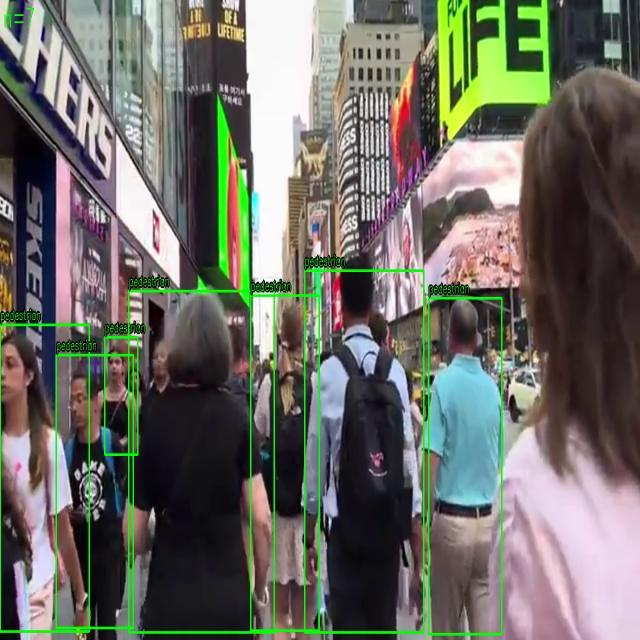with scooter: (128, 291, 274, 633), (304, 270, 424, 633), (0, 324, 90, 632), (428, 298, 502, 634), (250, 295, 320, 631), (56, 354, 134, 628), (104, 337, 138, 455)
